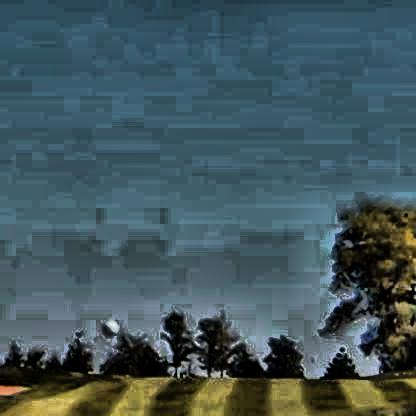golfball: (99, 315, 116, 335)
